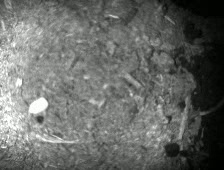corn: (27, 95, 50, 117)
